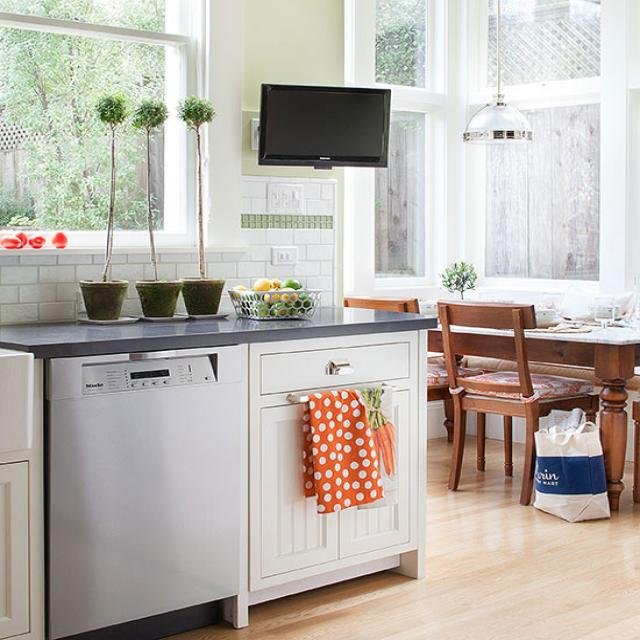dishwasher: (44, 340, 247, 640)
